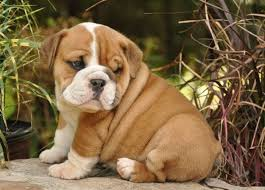Bulldog: (23, 14, 228, 183)
